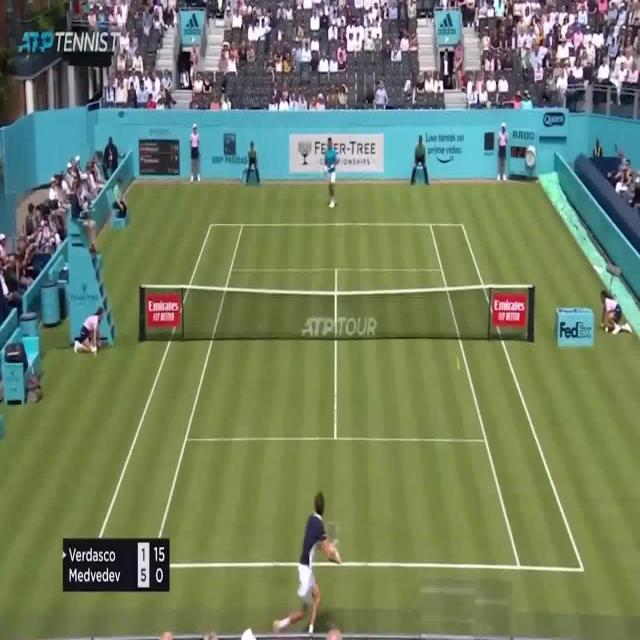bottom-dead-zone: (153, 439, 520, 570)
court: (90, 225, 585, 573)
left-doubles-alley: (91, 224, 243, 563)
left-service-box: (185, 268, 336, 440)
net: (137, 279, 535, 346)
right-doubles-alley: (430, 225, 585, 573)
right-service-box: (336, 270, 487, 443)
top-dead-zone: (231, 226, 443, 272)
